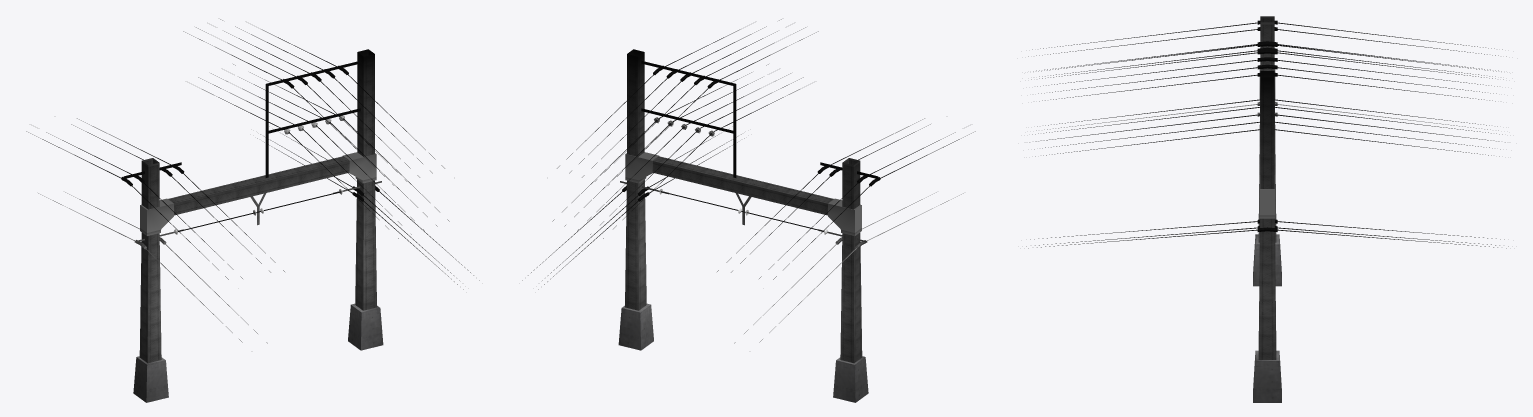
File: KASENCHU_KIN00.glb
The picture shows the model from 3 angles, left to right: view 1: azimuth 30°, elevation 25°; view 2: azimuth 150°, elevation 25°; view 3: azimuth 270°, elevation 25°; orthographic projection. The views are drawn at different scales.
Visible parts, largest first — view 1: Base_Block; view 2: Base_Block; view 3: Base_Block.
Part boxes in pixels (left/top/right/bottom): Base_Block: left=26, top=19, right=479, bottom=402; Base_Block: left=522, top=19, right=975, bottom=402; Base_Block: left=1026, top=16, right=1508, bottom=402.
Size of the model in its own units: 33.02 by 35.43 by 50.
5 materials, 5 textured.
